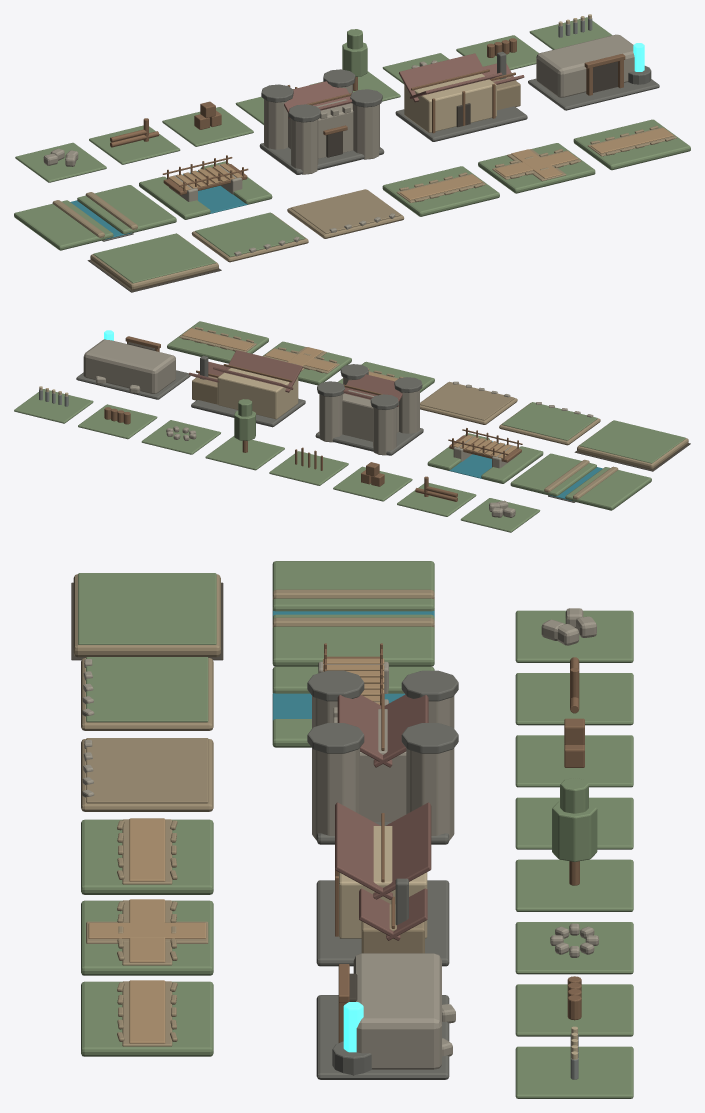
Rendered from salto_modular_environment_kit.glb.
3 renders of one model, top to bottom at view 1: azimuth 30°, elevation 25°; view 2: azimuth 150°, elevation 25°; view 3: azimuth 270°, elevation 25°, orthographic. The views are drawn at different scales.
Visible parts, largest first — view 1: Mine_RockMass, TerrainBase_GrassCap, Barracks_Wall, earth_patch_Surface, grass_patch_Surface, RiverTerrainLeft, RiverTerrainRight, road_bridge_connector_Terrain, road_straight_Terrain, road_intersection_Terrain, prop_rock_cluster_Plinth, prop_crate_stack_Plinth (+35 smaller); view 2: Mine_RockMass, Barracks_Wall, TerrainBase_GrassCap, earth_patch_Surface, grass_patch_Surface, RiverTerrainLeft, RiverTerrainRight, road_bridge_connector_Terrain, prop_tree_Plinth, prop_posts_Plinth, unit_scale_dummies_Plinth, Keep_Hall (+32 smaller); view 3: TerrainBase_GrassCap, Mine_RockMass, grass_patch_Surface, earth_patch_Surface, RiverTerrainLeft, RiverTerrainRight, road_bridge_connector_Terrain, road_straight_Terrain, unit_scale_dummies_Plinth, prop_tree_Plinth, prop_log_stack_Plinth, prop_barrels_Plinth (+40 smaller).
Part boxes in pixels (x1,y1,x2,y2): Mine_RockMass: (536,34,634,97); TerrainBase_GrassCap: (93,233,216,283); Barracks_Wall: (404,73,496,132); earth_patch_Surface: (290,189,400,233); grass_patch_Surface: (195,212,305,256); RiverTerrainLeft: (14,200,113,250); RiverTerrainRight: (77,185,176,234); road_bridge_connector_Terrain: (573,119,690,170); road_straight_Terrain: (382,166,499,216); road_intersection_Terrain: (478,143,595,193); prop_rock_cluster_Plinth: (15,142,106,182); prop_crate_stack_Plinth: (162,107,253,146); Mine_RockMass: (83,339,175,393); Barracks_Wall: (217,368,298,419); TerrainBase_GrassCap: (579,420,686,463); earth_patch_Surface: (420,381,514,420); grass_patch_Surface: (502,402,597,440); RiverTerrainLeft: (565,467,651,510); RiverTerrainRight: (510,453,596,496); road_bridge_connector_Terrain: (167,321,268,363); prop_tree_Plinth: (205,436,284,470); prop_posts_Plinth: (269,451,348,485); unit_scale_dummies_Plinth: (14,389,93,423); Keep_Hall: (342,390,398,441); TerrainBase_GrassCap: (78,573,216,644); Mine_RockMass: (353,953,441,1069); grass_patch_Surface: (86,657,208,722); earth_patch_Surface: (86,738,208,803); RiverTerrainLeft: (272,561,434,611); RiverTerrainRight: (272,614,434,666); road_bridge_connector_Terrain: (81,981,213,1056); road_straight_Terrain: (81,819,213,894); unit_scale_dummies_Plinth: (515,1046,633,1098); prop_tree_Plinth: (515,859,633,911); prop_log_stack_Plinth: (515,673,633,725); prop_barrels_Plinth: (515,984,633,1036).
Bounding box in the file's own units: 86 × 8.53 × 38.15.
